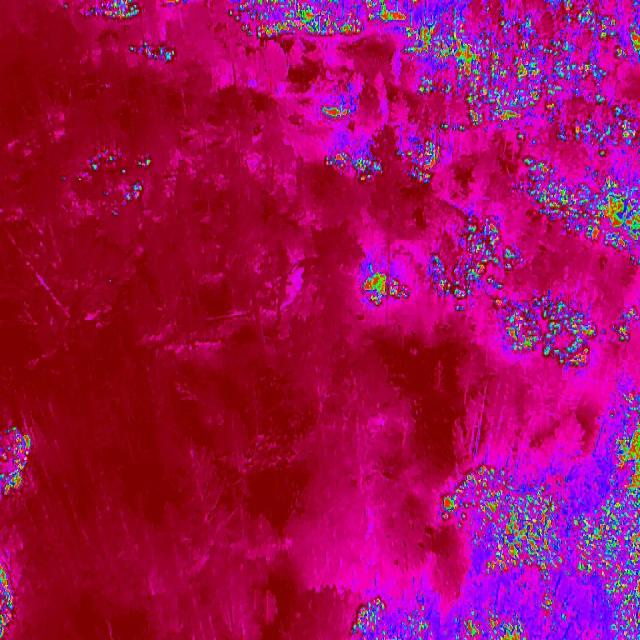fire: (404, 43, 640, 157), (438, 468, 640, 587), (234, 0, 640, 45), (346, 587, 635, 640), (522, 160, 640, 262), (419, 210, 522, 316), (500, 292, 598, 372), (397, 123, 456, 188), (601, 382, 640, 467), (0, 416, 34, 506), (320, 150, 390, 188), (362, 267, 413, 315), (317, 88, 368, 132), (128, 40, 184, 72), (76, 0, 146, 25), (0, 564, 17, 640)
